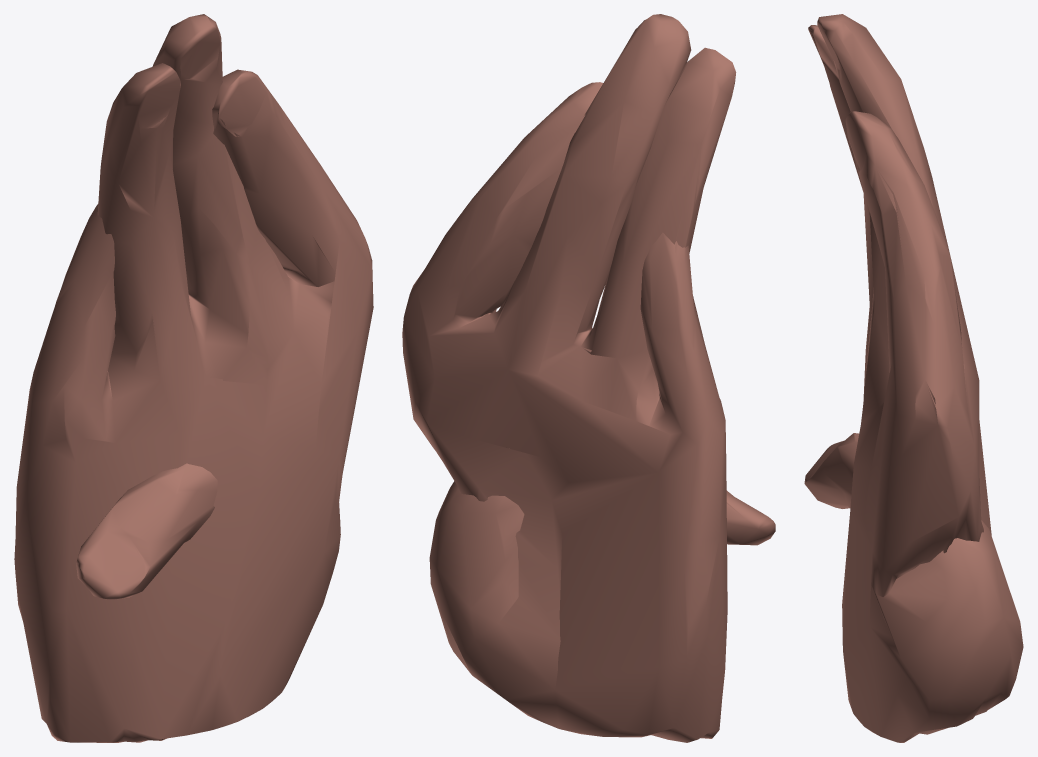
File: posable-right-cc0-grip.glb
The picture shows the model from 3 angles, left to right: view 1: azimuth 30°, elevation 25°; view 2: azimuth 150°, elevation 25°; view 3: azimuth 270°, elevation 25°; orthographic projection. The views are drawn at different scales.
Visible parts, largest first — view 1: CC0 Anatomical Hand — Curled 5A Grip; view 2: CC0 Anatomical Hand — Curled 5A Grip; view 3: CC0 Anatomical Hand — Curled 5A Grip.
Boxes of the visible parts, <box> form: CC0 Anatomical Hand — Curled 5A Grip: <box>14,14,373,742</box>; CC0 Anatomical Hand — Curled 5A Grip: <box>402,14,775,742</box>; CC0 Anatomical Hand — Curled 5A Grip: <box>804,14,1023,742</box>.
Bounding box in the file's own units: 0.0968 × 0.1983 × 0.0577.
